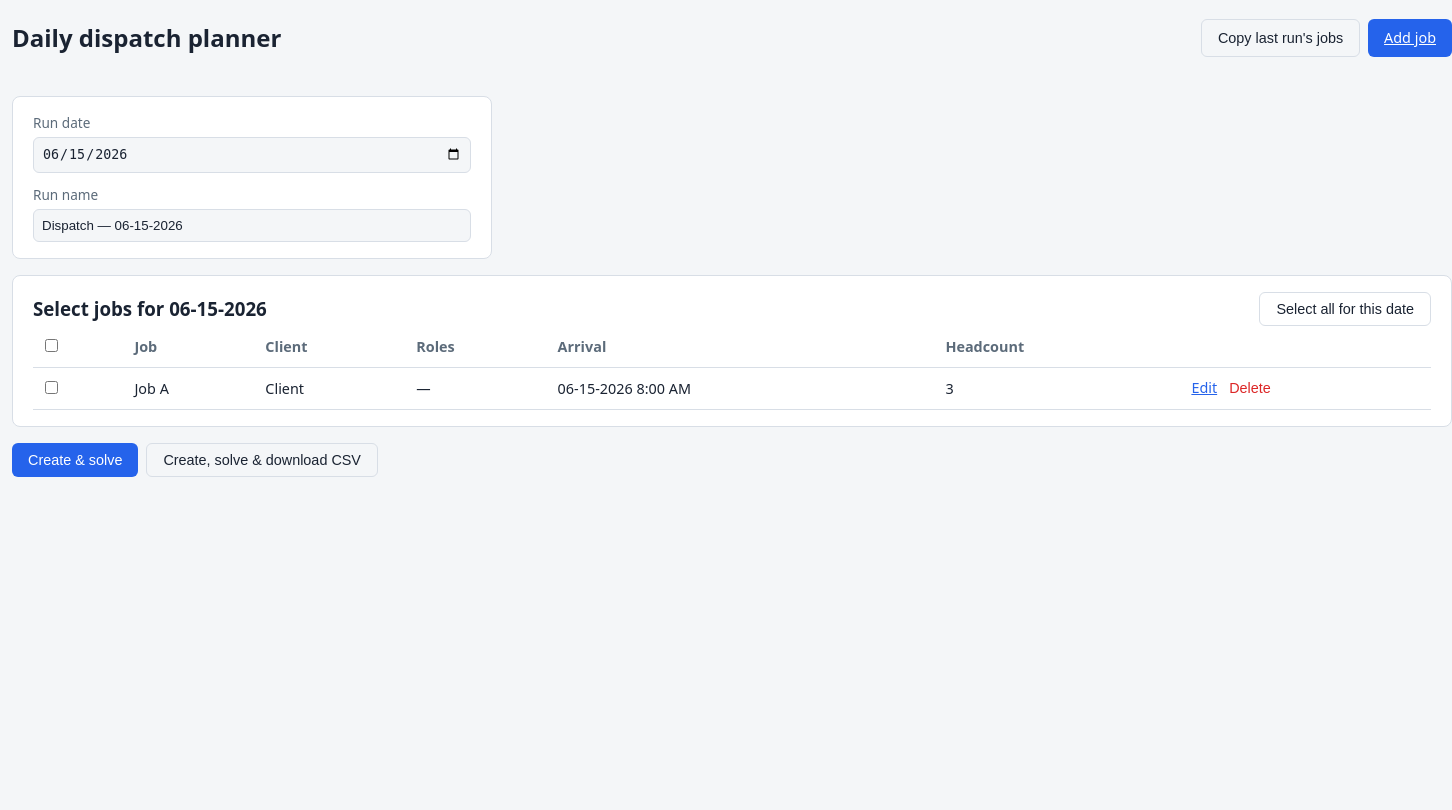
it: DispatchPlannerPage › clears selection and filters jobs when run date changes
Check: the text "Job A" is shown, box [126, 367, 257, 410]
Step 1. Click the 2nd checkbox → (52, 387), box [45, 381, 58, 394]
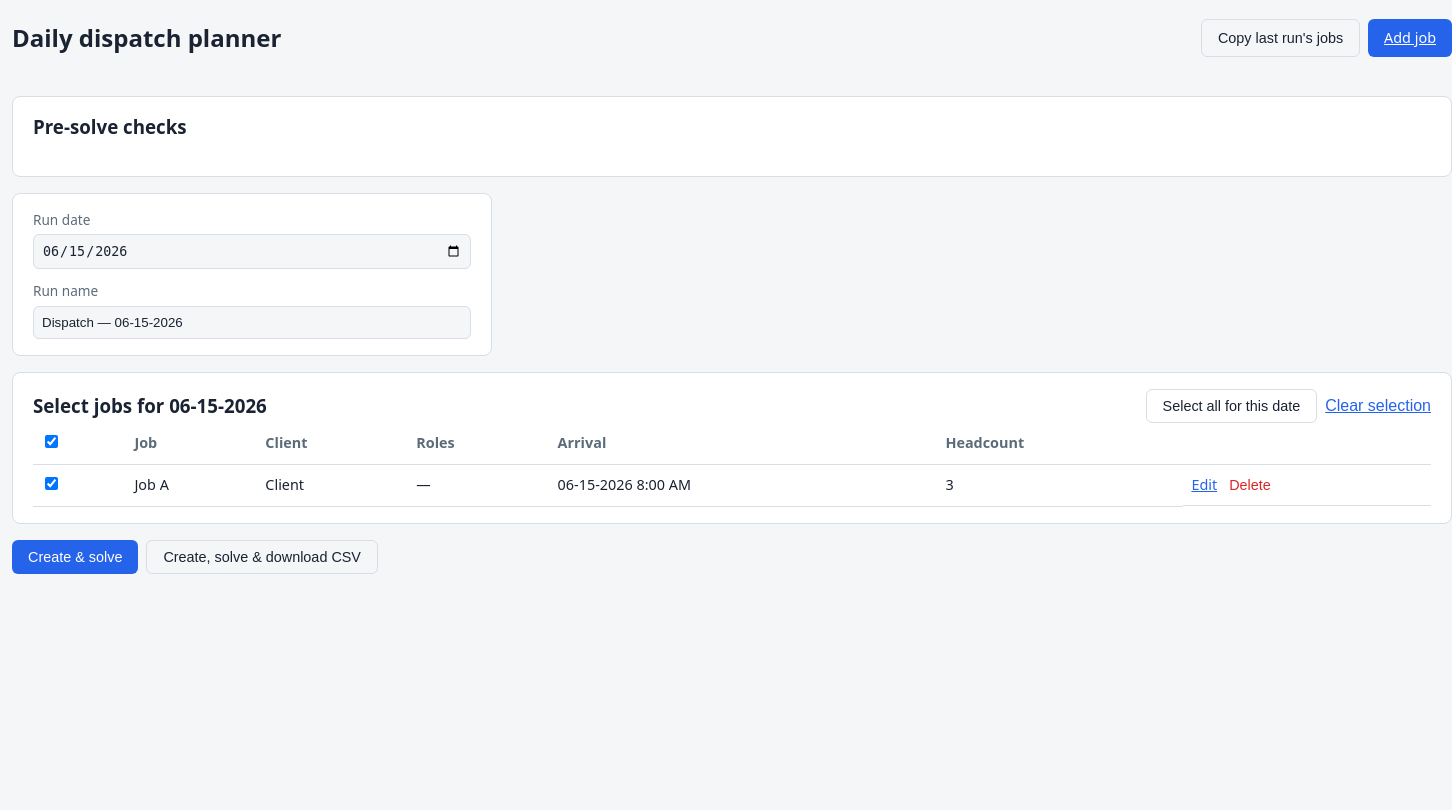
Check: the 2nd checkbox is checked, box [45, 477, 58, 490]
Step 2. Type "2026-06-16" into the date field labelled "Run date" → (252, 252), box [33, 234, 471, 269]
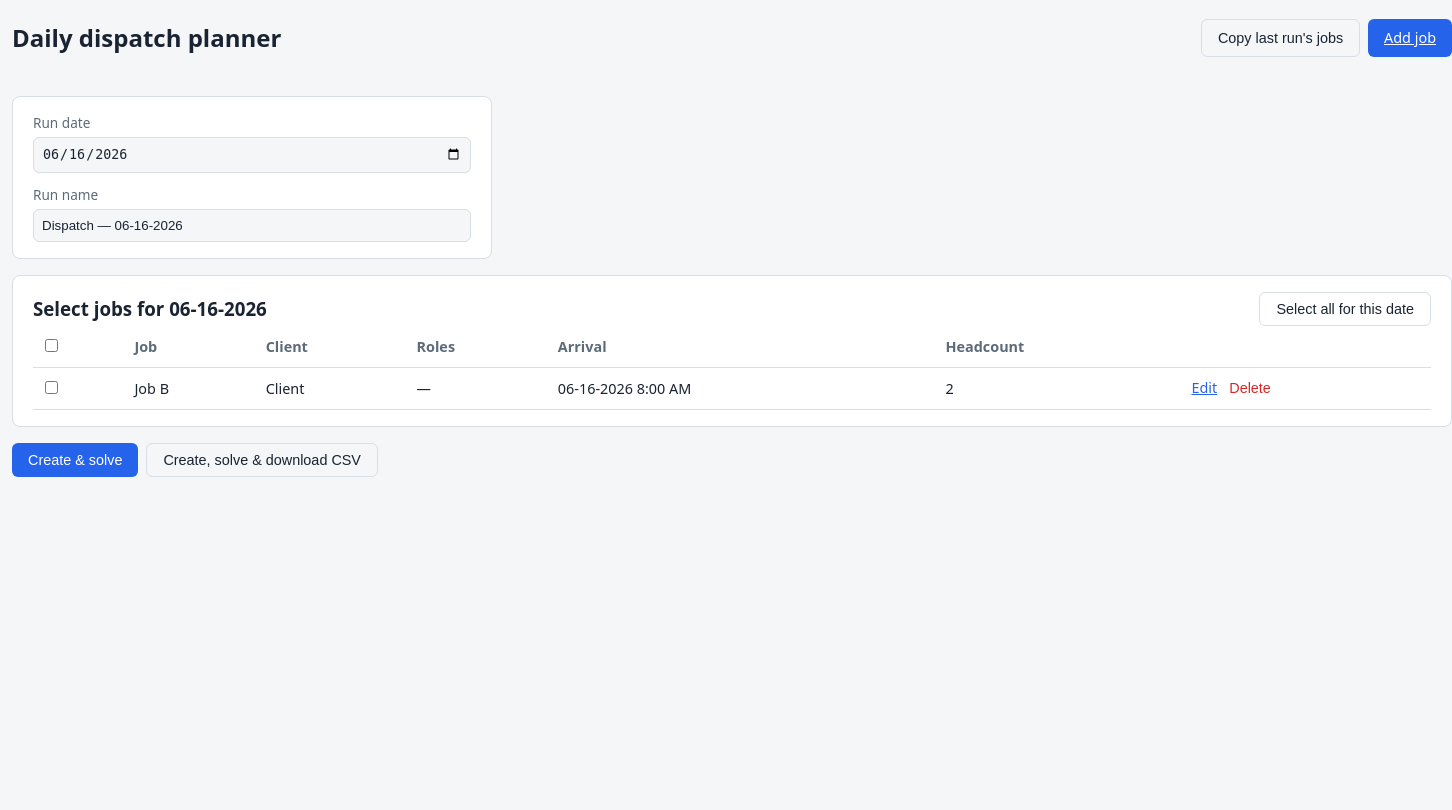
Check: the text "Job A" is gone
Check: the text "Job B" is shown, box [126, 367, 258, 410]
Check: the 2nd checkbox is not checked, box [45, 381, 58, 394]
